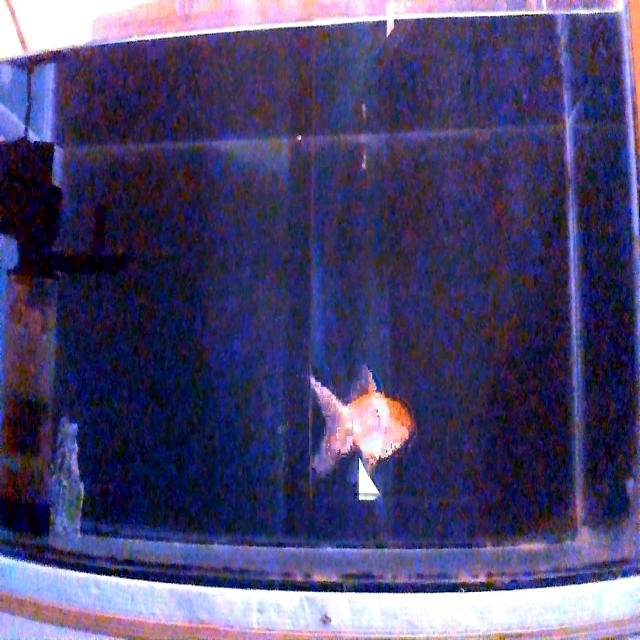fish: (310, 366, 414, 473)
